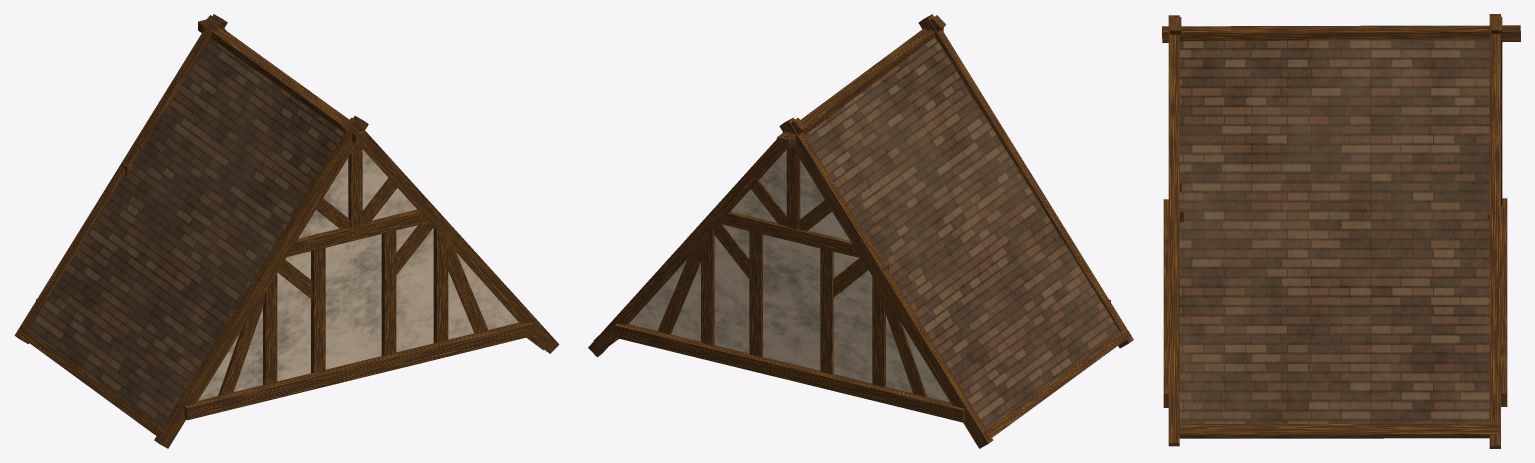
Rendered from Roof Two-Sided Tall.fbx.
3 renders of one model, left to right at view 1: azimuth 30°, elevation 25°; view 2: azimuth 150°, elevation 25°; view 3: azimuth 270°, elevation 25°, orthographic. The views are drawn at different scales.
Visible parts, largest first — view 1: Roof; view 2: Roof; view 3: Roof.
Part boxes in pixels (<box>): Roof: <box>14,14,559,448</box>; Roof: <box>588,14,1133,448</box>; Roof: <box>1162,14,1520,448</box>.
Bounding box in the file's own units: 728 × 1077 × 729.
